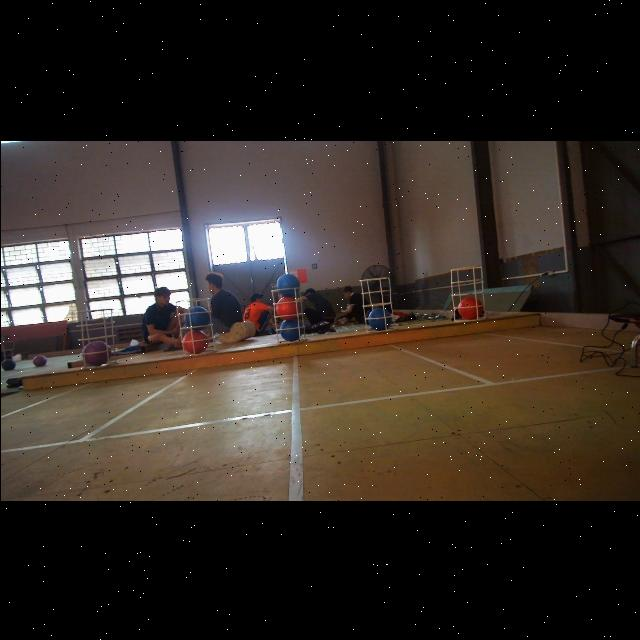B: (182, 304, 210, 330), (274, 273, 300, 297), (279, 316, 303, 338), (368, 306, 390, 328)
R: (182, 328, 210, 354), (457, 293, 481, 317), (273, 298, 299, 318)
